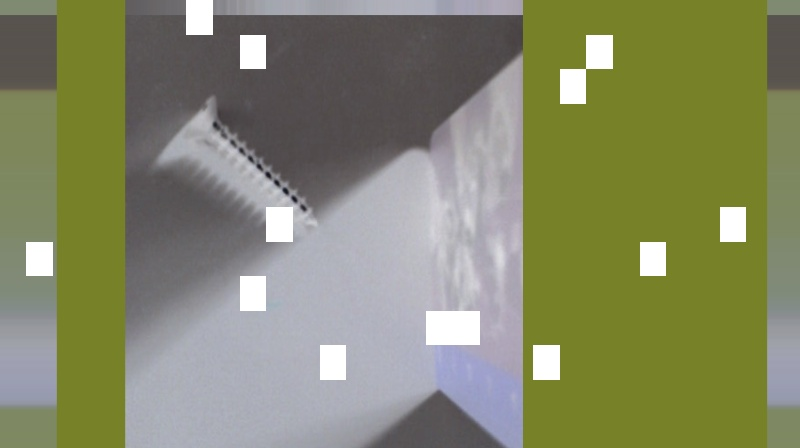S001: (183, 92, 322, 234)
